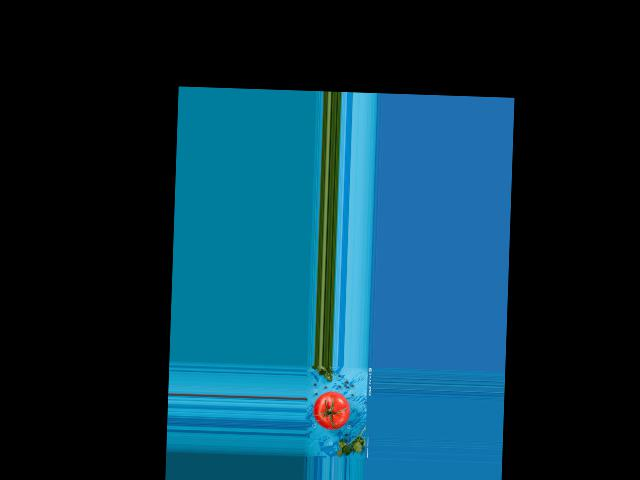tomato: (313, 391, 350, 430)
